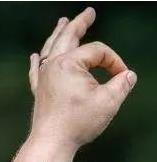left: (22, 6, 138, 142)
